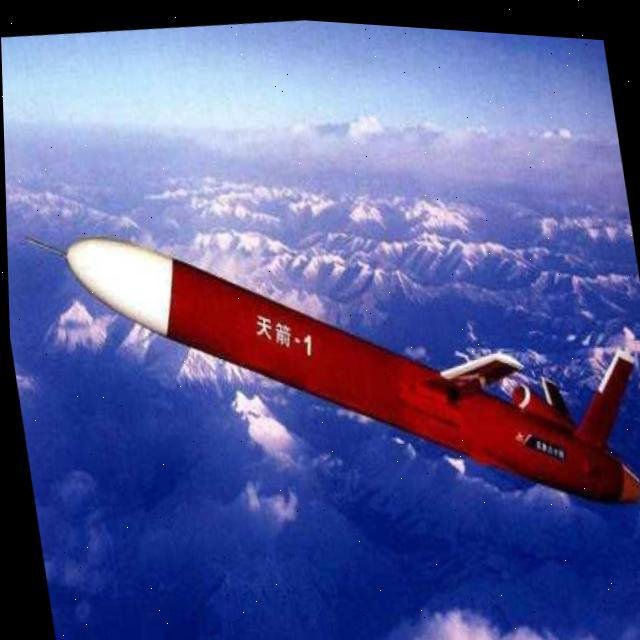missile: (25, 162, 640, 563)
